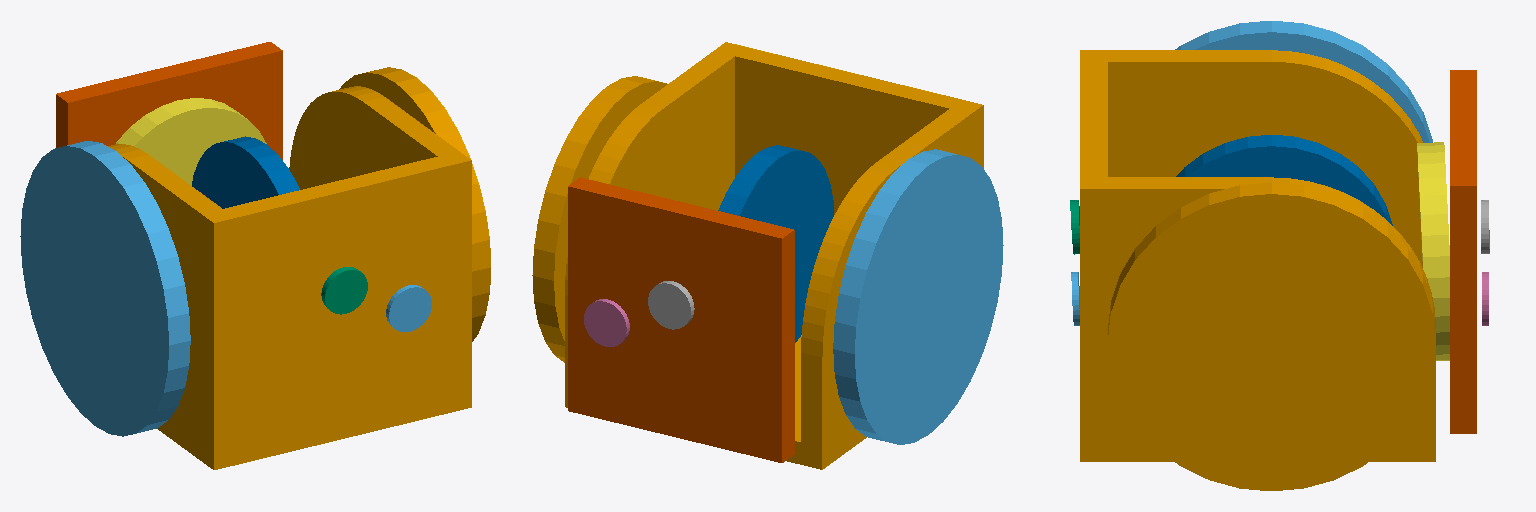
robot.urdf — ditto14:
<?xml version="1.0" ?>
<robot name="ditto14">
  <joint name="ditto14__body_JOINT_0" type="fixed">
    <parent link="ditto14__body"/>
    <child link="ditto14__body_magnet_south"/>
    <origin rpy="1.63618000e+00  -4.00000000e-05   2.10000000e-04" xyz="0      -0.07149  0.03"/>
    <axis xyz="1.00000000e+00  -2.00000000e-05   2.20000000e-04"/>
    <limit effort="-1.0" lower="0.0" upper="0.0" velocity="-1.0"/>
  </joint>
  <joint name="ditto14__body_JOINT_1" type="fixed">
    <parent link="ditto14__body"/>
    <child link="ditto14__body_magnet_north"/>
    <origin rpy="1.62063000e+00  -3.00000000e-05   1.60000000e-04" xyz="0.03    -0.07149  0.015"/>
    <axis xyz="1.00000000e+00  -2.00000000e-05   1.60000000e-04"/>
    <limit effort="-1.0" lower="0.0" upper="0.0" velocity="-1.0"/>
  </joint>
  <joint name="ditto14__pan_joint" type="revolute">
    <parent link="ditto14__face_pan"/>
    <child link="ditto14__front_face"/>
    <origin rpy="-1.61389 -0.02206  1.57168" xyz="0.00043  0.00022 -0.00998"/>
    <axis xyz="-2.00000000e-05   1.00000000e+00   1.00000000e-05"/>
    <limit effort="-1.0" lower="0.0" upper="1.5717" velocity="-1.0"/>
  </joint>
  <joint name="ditto14__front_face_JOINT_0" type="fixed">
    <parent link="ditto14__front_face"/>
    <child link="ditto14__front_face_magnet_north"/>
    <origin rpy="1.57071000e+00  -1.00000000e-05   1.00000000e-04" xyz="0.03   0.008 -0.005"/>
    <axis xyz="1.00000000e+00  -1.00000000e-05   8.00000000e-05"/>
    <limit effort="-1.0" lower="0.0" upper="0.0" velocity="-1.0"/>
  </joint>
  <joint name="ditto14__front_face_JOINT_1" type="fixed">
    <parent link="ditto14__front_face"/>
    <child link="ditto14__front_face_magnet_south"/>
    <origin rpy="1.58626000e+00  -2.00000000e-05   1.60000000e-04" xyz="0     0.008  0.01"/>
    <axis xyz="1.00000000e+00  -2.00000000e-05   1.30000000e-04"/>
    <limit effort="-1.0" lower="0.0" upper="0.0" velocity="-1.0"/>
  </joint>
  <joint name="ditto14__left_wheel_joint" type="revolute">
    <parent link="ditto14__body"/>
    <child link="ditto14__left_wheel"/>
    <origin rpy="1.5707  0      1.5707" xyz="0.07     0       0.01833"/>
    <axis xyz="0.00000000e+00   1.00000000e+00   9.00000000e-05"/>
    <limit effort="-1.0" lower="-1.79769e+308" upper="1.79769e+308" velocity="-1.0"/>
  </joint>
  <joint name="ditto14__fixed_joint" type="fixed">
    <parent link="ditto14__face_tilt"/>
    <child link="ditto14__face_pan"/>
    <origin rpy="1.54872000e+00  -2.00000000e-05   4.30500000e-02" xyz="0    0.06  0"/>
    <axis xyz="-9.99070000e-01   6.00000000e-05  -4.30500000e-02"/>
    <limit effort="-1.0" lower="0.0" upper="0.0" velocity="-1.0"/>
  </joint>
  <joint name="ditto14__right_wheel_joint" type="revolute">
    <parent link="ditto14__body"/>
    <child link="ditto14__right_wheel"/>
    <origin rpy="1.5707  0      1.5707" xyz="-0.07     0       0.01833"/>
    <axis xyz="0.00000000e+00   1.00000000e+00   9.00000000e-05"/>
    <limit effort="-1.0" lower="-1.79769e+308" upper="1.79769e+308" velocity="-1.0"/>
  </joint>
  <joint name="ditto14__tilt_joint" type="revolute">
    <parent link="ditto14__body"/>
    <child link="ditto14__face_tilt"/>
    <origin rpy="-3.14158  1.56989 -3.14158" xyz="0    0    0.02"/>
    <axis xyz="-1.00000000e+00   0.00000000e+00  -9.00000000e-04"/>
    <limit effort="-1.0" lower="0.0" upper="1.5717" velocity="-1.0"/>
  </joint>
  <link name="ditto14__body">
    <inertial>
      <mass value="5"/>
      <origin rpy="0  0  0" xyz="0  0  0"/>
      <inertia ixx="0.166667" ixy="0" ixz="0" iyy="0.166667" iyz="0" izz="0.166667"/>
    </inertial>
    <collision name="ditto14__collision">
      <origin rpy="0  0  0" xyz="0       0      -0.03666"/>
      <geometry>
        <mesh filename="package://gp_abstract_sim/meshes/bodyCorrected.stl" scale="0.01 0.01 0.01"/>
      </geometry>
    </collision>
    <visual name="ditto14__visual">
      <origin rpy="0  0  0" xyz="0       0      -0.03666"/>
      <geometry>
        <mesh filename="package://gp_abstract_sim/meshes/bodyCorrected.stl" scale="0.01 0.01 0.01"/>
      </geometry>
    </visual>
  </link>
  <link name="ditto14__body_magnet_north">
    <inertial>
      <mass value="1e-07"/>
      <origin rpy="0  0  0" xyz="0  0  0"/>
      <inertia ixx="0" ixy="0" ixz="0" iyy="0" iyz="0" izz="0"/>
    </inertial>
    <collision name="ditto14__box_collision">
      <origin rpy="0  0  0" xyz="0  0  0"/>
      <geometry>
        <cylinder length="0.0025" radius="0.01"/>
      </geometry>
    </collision>
    <visual name="ditto14__visual">
      <origin rpy="0  0  0" xyz="0  0  0"/>
      <geometry>
        <cylinder length="0.0025" radius="0.01"/>
      </geometry>
    </visual>
  </link>
  <link name="ditto14__body_magnet_south">
    <inertial>
      <mass value="1e-07"/>
      <origin rpy="0  0  0" xyz="0  0  0"/>
      <inertia ixx="0" ixy="0" ixz="0" iyy="0" iyz="0" izz="0"/>
    </inertial>
    <collision name="ditto14__box_collision">
      <origin rpy="0  0  0" xyz="0  0  0"/>
      <geometry>
        <cylinder length="0.003" radius="0.01"/>
      </geometry>
    </collision>
    <visual name="ditto14__visual">
      <origin rpy="0  0  0" xyz="0  0  0"/>
      <geometry>
        <cylinder length="0.003" radius="0.01"/>
      </geometry>
    </visual>
  </link>
  <link name="ditto14__face_pan">
    <inertial>
      <mass value="0.5"/>
      <origin rpy="0  0  0" xyz="0  0  0"/>
      <inertia ixx="0.145833" ixy="0" ixz="0" iyy="0.145833" iyz="0" izz="0.125"/>
    </inertial>
    <collision name="ditto14__collision">
      <origin rpy="0  0  0" xyz="0  0  0"/>
      <geometry>
        <cylinder length="0.01" radius="0.04"/>
      </geometry>
    </collision>
    <visual name="ditto14__visual">
      <origin rpy="0  0  0" xyz="0  0  0"/>
      <geometry>
        <cylinder length="0.01" radius="0.04"/>
      </geometry>
    </visual>
  </link>
  <link name="ditto14__face_tilt">
    <inertial>
      <mass value="0.0001"/>
      <origin rpy="0  0  0" xyz="0  0  0"/>
      <inertia ixx="0.145833" ixy="0" ixz="0" iyy="0.145833" iyz="0" izz="0.125"/>
    </inertial>
    <collision name="ditto14__collision">
      <origin rpy="0  0  0" xyz="0  0  0"/>
      <geometry>
        <cylinder length="0.01" radius="0.045"/>
      </geometry>
    </collision>
    <visual name="ditto14__visual">
      <origin rpy="0  0  0" xyz="0  0  0"/>
      <geometry>
        <cylinder length="0.01" radius="0.045"/>
      </geometry>
    </visual>
  </link>
  <link name="ditto14__front_face">
    <inertial>
      <mass value="0.5"/>
      <origin rpy="0  0  0" xyz="0  0  0"/>
      <inertia ixx="0.166667" ixy="0" ixz="0" iyy="0.166667" iyz="0" izz="0.166667"/>
    </inertial>
    <collision name="ditto14__box_collision">
      <origin rpy="0  0  0" xyz="0  0  0"/>
      <geometry>
        <box size="0.1 0.01 0.1"/>
      </geometry>
    </collision>
    <visual name="ditto14__visual">
      <origin rpy="0  0  0" xyz="0  0  0"/>
      <geometry>
        <box size="0.1 0.01 0.1"/>
      </geometry>
    </visual>
  </link>
  <link name="ditto14__front_face_magnet_north">
    <inertial>
      <mass value="1e-07"/>
      <origin rpy="0  0  0" xyz="0  0  0"/>
      <inertia ixx="0" ixy="0" ixz="0" iyy="0" iyz="0" izz="0"/>
    </inertial>
    <collision name="ditto14__box_collision">
      <origin rpy="0  0  0" xyz="0  0  0"/>
      <geometry>
        <cylinder length="0.0025" radius="0.01"/>
      </geometry>
    </collision>
    <visual name="ditto14__visual">
      <origin rpy="0  0  0" xyz="0  0  0"/>
      <geometry>
        <cylinder length="0.0025" radius="0.01"/>
      </geometry>
    </visual>
  </link>
  <link name="ditto14__front_face_magnet_south">
    <inertial>
      <mass value="1e-07"/>
      <origin rpy="0  0  0" xyz="0  0  0"/>
      <inertia ixx="0" ixy="0" ixz="0" iyy="0" iyz="0" izz="0"/>
    </inertial>
    <collision name="ditto14__box_collision">
      <origin rpy="0  0  0" xyz="0  0  0"/>
      <geometry>
        <cylinder length="0.003" radius="0.01"/>
      </geometry>
    </collision>
    <visual name="ditto14__visual">
      <origin rpy="0  0  0" xyz="0  0  0"/>
      <geometry>
        <cylinder length="0.003" radius="0.01"/>
      </geometry>
    </visual>
  </link>
  <link name="ditto14__left_wheel">
    <inertial>
      <mass value="0.5"/>
      <origin rpy="0  0  0" xyz="0  0  0"/>
      <inertia ixx="0.145833" ixy="0" ixz="0" iyy="0.145833" iyz="0" izz="0.125"/>
    </inertial>
    <collision name="ditto14__collision">
      <origin rpy="0  0  0" xyz="0  0  0"/>
      <geometry>
        <cylinder length="0.01" radius="0.06"/>
      </geometry>
    </collision>
    <visual name="ditto14__visual">
      <origin rpy="0  0  0" xyz="0  0  0"/>
      <geometry>
        <cylinder length="0.01" radius="0.06"/>
      </geometry>
    </visual>
  </link>
  <link name="ditto14__right_wheel">
    <inertial>
      <mass value="0.5"/>
      <origin rpy="0  0  0" xyz="0  0  0"/>
      <inertia ixx="0.145833" ixy="0" ixz="0" iyy="0.145833" iyz="0" izz="0.125"/>
    </inertial>
    <collision name="ditto14__collision">
      <origin rpy="0  0  0" xyz="0  0  0"/>
      <geometry>
        <cylinder length="0.01" radius="0.06"/>
      </geometry>
    </collision>
    <visual name="ditto14__visual">
      <origin rpy="0  0  0" xyz="0  0  0"/>
      <geometry>
        <cylinder length="0.01" radius="0.06"/>
      </geometry>
    </visual>
  </link>
  <gazebo>
    <plugin name="my_speed_controller_plugin" filename="libmy_speed_controller_plugin.so">
      <namespace_model>GPabstractV2</namespace_model>
      <activate_pid_control>no</activate_pid_control>                
      <wheel_kp>0.1</wheel_kp>
      <wheel_ki>0.0</wheel_ki>
      <wheel_kd>0.0</wheel_kd>
	  </plugin>
  </gazebo>
  <gazebo reference="front_face">
   <sensor name='my_contact' type='contact'>
       <plugin name="my_plugin" filename="libcontact.so"/>
          <contact>
            <collision>box_collision_collision</collision>
          </contact>
        <update_rate> 5 </update_rate>
        </sensor>
  </gazebo>
</robot>

--- What the picture shows (computed from the rendered views, not written in the file) ---
The picture shows the robot from 3 angles, left to right: view 1: azimuth 30°, elevation 25°; view 2: azimuth 150°, elevation 25°; view 3: azimuth 270°, elevation 25°; orthographic projection.
Robot: ditto14 — 10 links, 9 joints (4 revolute, 5 fixed); root link ditto14__body; default pose: all joints at 0.
Visible links, largest first — view 1: ditto14__body, ditto14__right_wheel, ditto14__front_face, ditto14__face_pan, ditto14__left_wheel, ditto14__face_tilt, ditto14__body_magnet_south, ditto14__body_magnet_north; view 2: ditto14__front_face, ditto14__body, ditto14__right_wheel, ditto14__left_wheel, ditto14__face_tilt, ditto14__front_face_magnet_south, ditto14__front_face_magnet_north; view 3: ditto14__left_wheel, ditto14__body, ditto14__front_face, ditto14__face_tilt, ditto14__right_wheel, ditto14__face_pan.
Link boxes in pixels (box(x1,y1,x2,y2)): ditto14__body: box(108, 86, 471, 469); ditto14__right_wheel: box(20, 141, 190, 436); ditto14__front_face: box(56, 42, 282, 159); ditto14__face_pan: box(116, 98, 266, 185); ditto14__left_wheel: box(339, 67, 490, 341); ditto14__face_tilt: box(192, 136, 299, 208); ditto14__body_magnet_south: box(321, 267, 367, 314); ditto14__body_magnet_north: box(386, 285, 431, 331); ditto14__front_face: box(568, 177, 794, 462); ditto14__body: box(565, 42, 983, 469); ditto14__right_wheel: box(833, 149, 1003, 444); ditto14__left_wheel: box(532, 76, 667, 362); ditto14__face_tilt: box(718, 145, 833, 342); ditto14__front_face_magnet_south: box(648, 281, 694, 329); ditto14__front_face_magnet_north: box(584, 299, 629, 346); ditto14__left_wheel: box(1108, 182, 1435, 490); ditto14__body: box(1080, 50, 1435, 461); ditto14__front_face: box(1450, 70, 1476, 433); ditto14__face_tilt: box(1176, 135, 1392, 225); ditto14__right_wheel: box(1175, 21, 1432, 142); ditto14__face_pan: box(1417, 142, 1449, 360).
Size in the robot's own frame: 0.15 by 0.1533 by 0.12 metres.
Meshes: 1 distinct files referenced, 1 mesh visuals loaded (1 binary STL).
